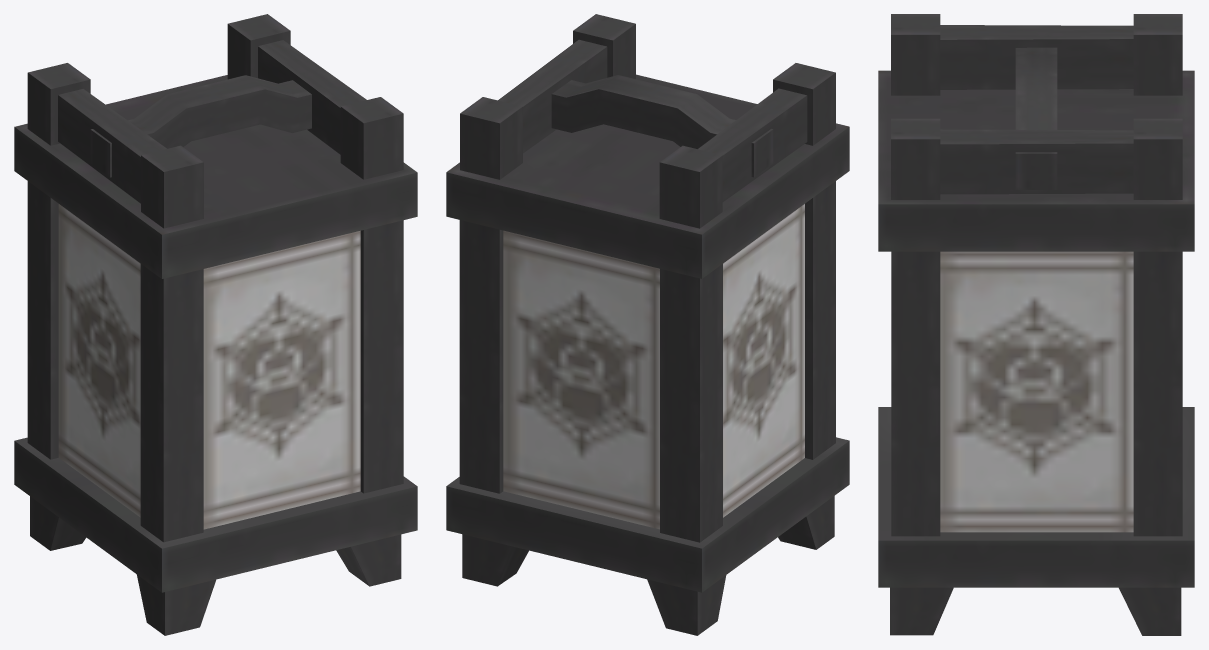
The model's file is Homeworld_Interior_Dq_Lamp_Lamp_02_Vo.fbx.
3 renders of one model, left to right at view 1: azimuth 30°, elevation 25°; view 2: azimuth 150°, elevation 25°; view 3: azimuth 270°, elevation 25°, orthographic. The views are drawn at different scales.
Parts seen in each view (by area): view 1: Indoor_Dq_Prop_Comp_Lamp_03_Vo; view 2: Indoor_Dq_Prop_Comp_Lamp_03_Vo; view 3: Indoor_Dq_Prop_Comp_Lamp_03_Vo.
Part boxes in pixels (x1=…): Indoor_Dq_Prop_Comp_Lamp_03_Vo: x1=14, y1=14, x2=417, y2=635; Indoor_Dq_Prop_Comp_Lamp_03_Vo: x1=446, y1=14, x2=849, y2=635; Indoor_Dq_Prop_Comp_Lamp_03_Vo: x1=878, y1=14, x2=1194, y2=635.
Bounding box in the file's own units: 0.2677 × 0.4659 × 0.2677.
